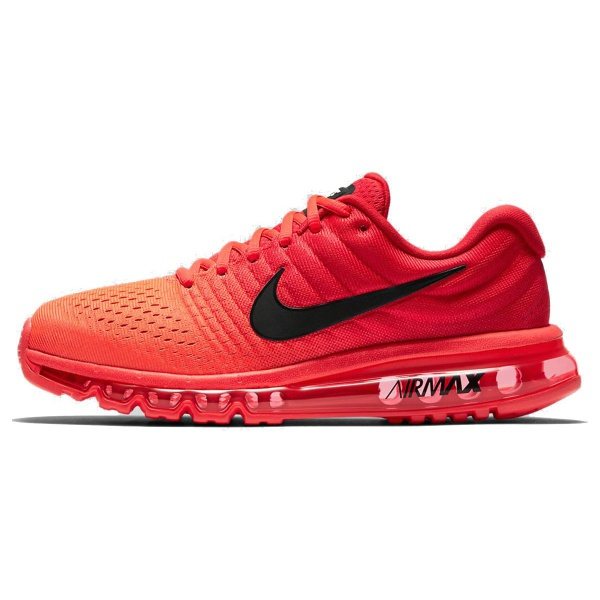nike: (246, 258, 472, 349)
